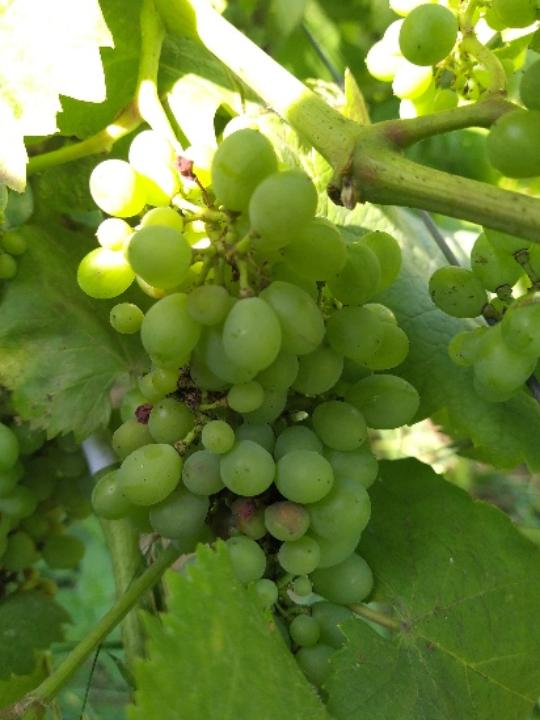grape: (73, 117, 419, 690)
